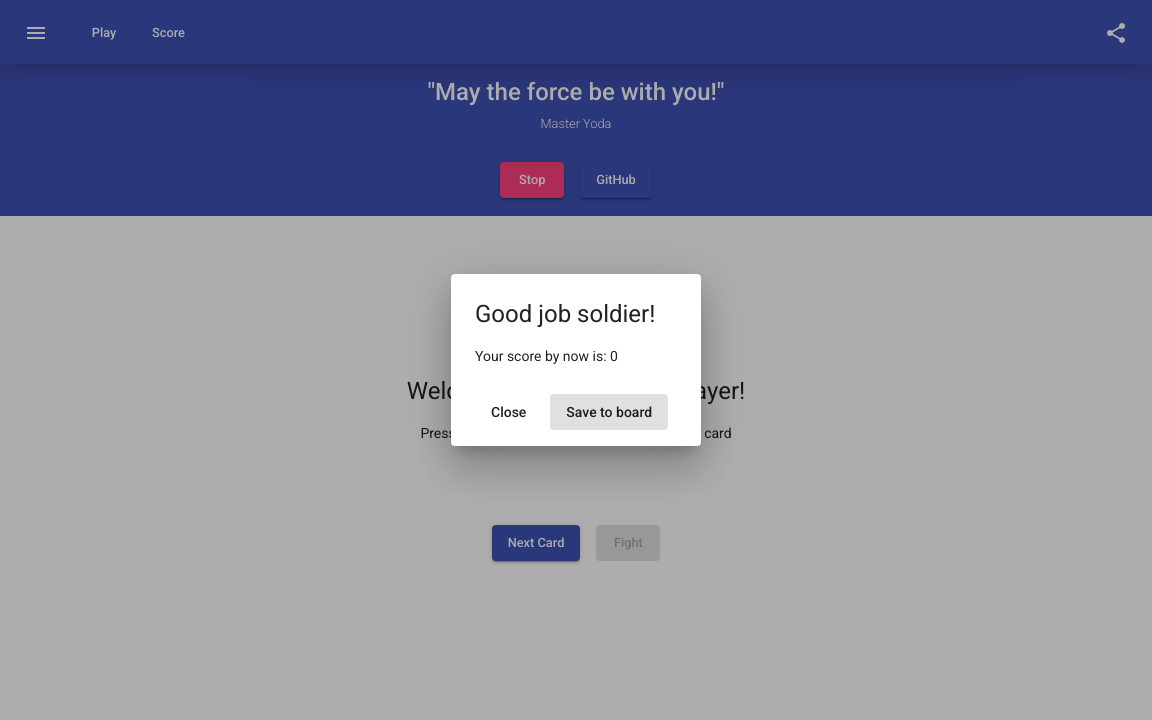
Test: Showing Score › Should close the modal if we press the close button
Click the button "Close" at (509, 412), box [475,394,542,430]
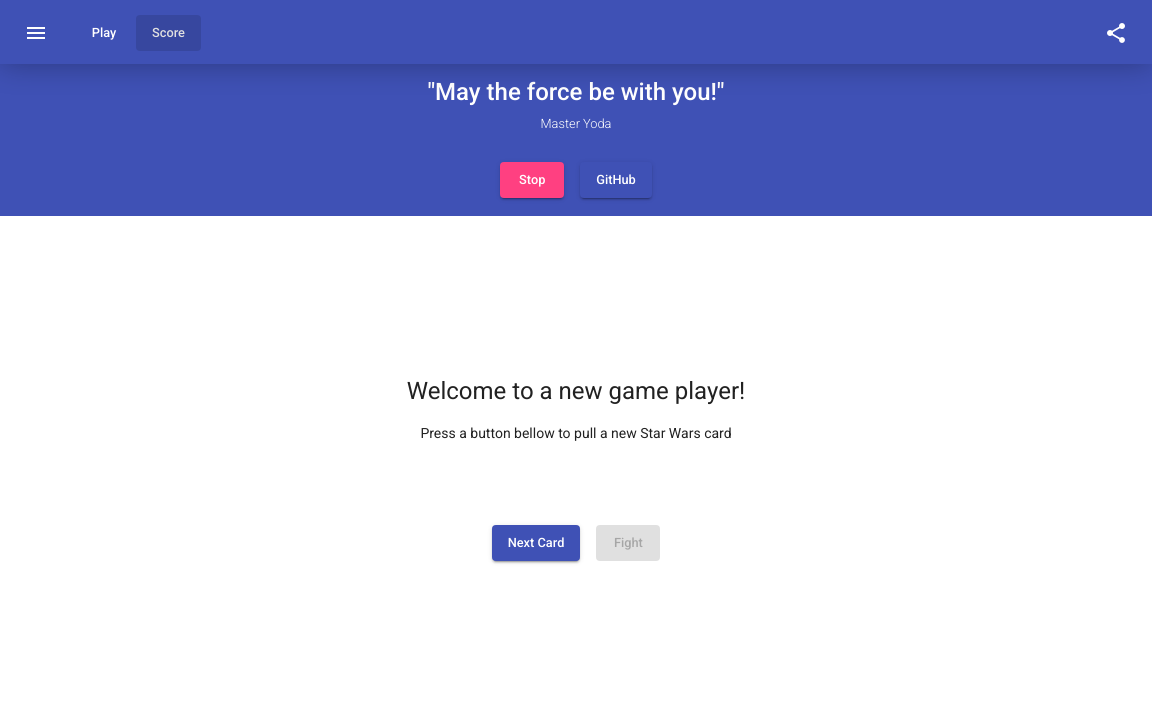
Result: the dialog is gone
